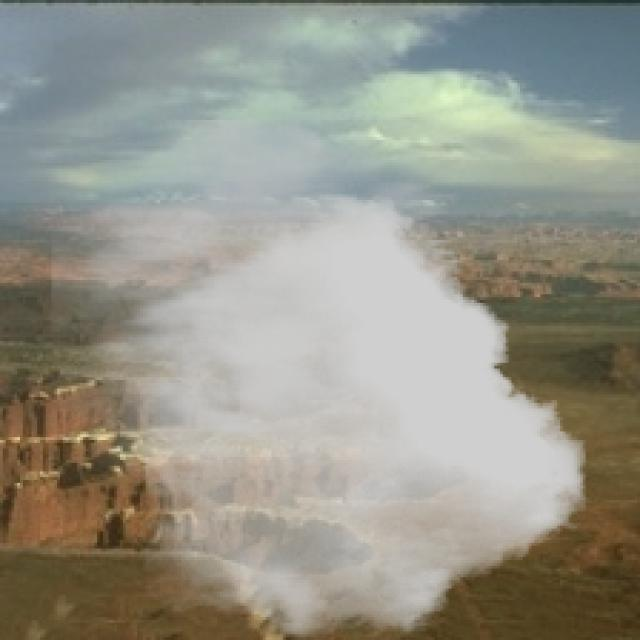Smoke: (51, 120, 588, 637)
